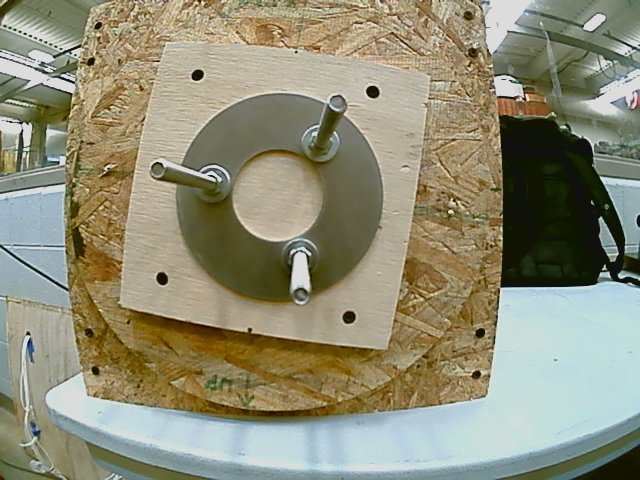bolt: (327, 91, 350, 115), (289, 285, 314, 307), (147, 157, 169, 181)
